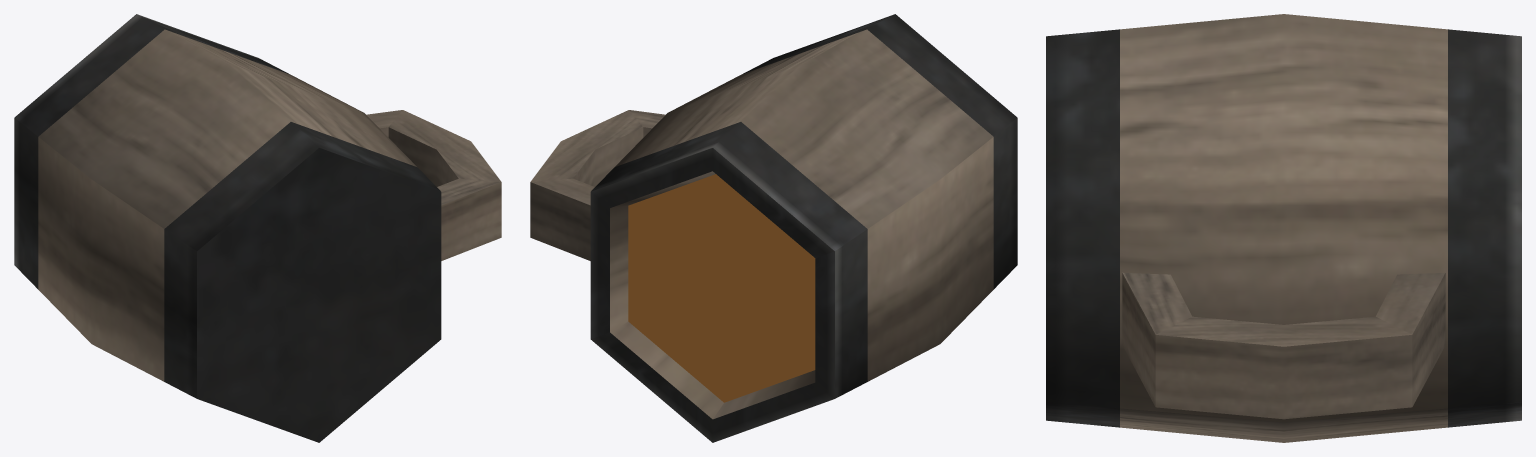
File: Wood_Stein_B.fbx
3 renders of one model, left to right at view 1: azimuth 30°, elevation 25°; view 2: azimuth 150°, elevation 25°; view 3: azimuth 270°, elevation 25°, orthographic. The views are drawn at different scales.
Parts seen in each view (by area): view 1: Wood_Stein_B; view 2: Wood_Stein_B; view 3: Wood_Stein_B.
Part boxes in pixels (x1,y1,x2,y2): Wood_Stein_B: (14,14,501,442); Wood_Stein_B: (530,14,1017,442); Wood_Stein_B: (1046,14,1521,442).
Bounding box in the file's own units: 0.3094 × 0.2567 × 0.258.
